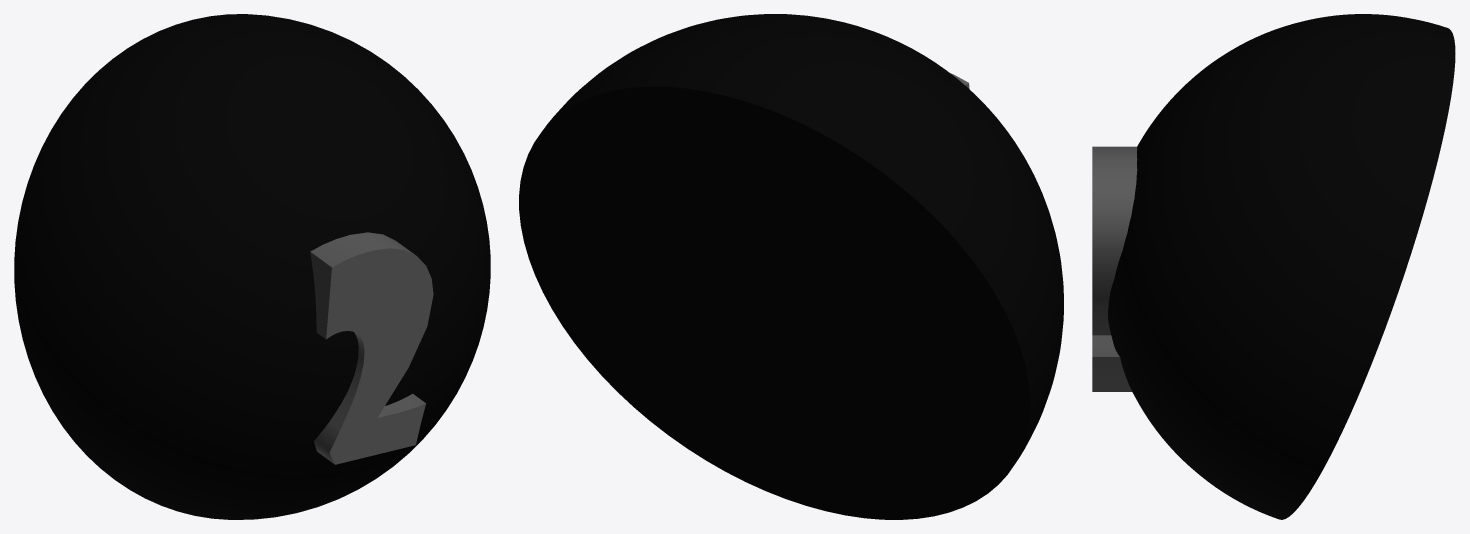
Rendered from button2.fbx.
3 views of the same model, side by side, from view 1: azimuth 30°, elevation 25°; view 2: azimuth 150°, elevation 25°; view 3: azimuth 270°, elevation 25° (orthographic). The views are drawn at different scales.
Visible parts, largest first — view 1: root, node_id98; view 2: root; view 3: root, node_id98.
Part boxes in pixels (x1,y1,x2,y2): root: (14, 14, 490, 519); node_id98: (310, 232, 433, 464); root: (519, 14, 1063, 519); root: (1108, 14, 1455, 519); node_id98: (1092, 146, 1137, 391).
Bounding box in the file's own units: 0.2 × 0.1936 × 0.1397.
Materials: 2 (1 with a texture image).
